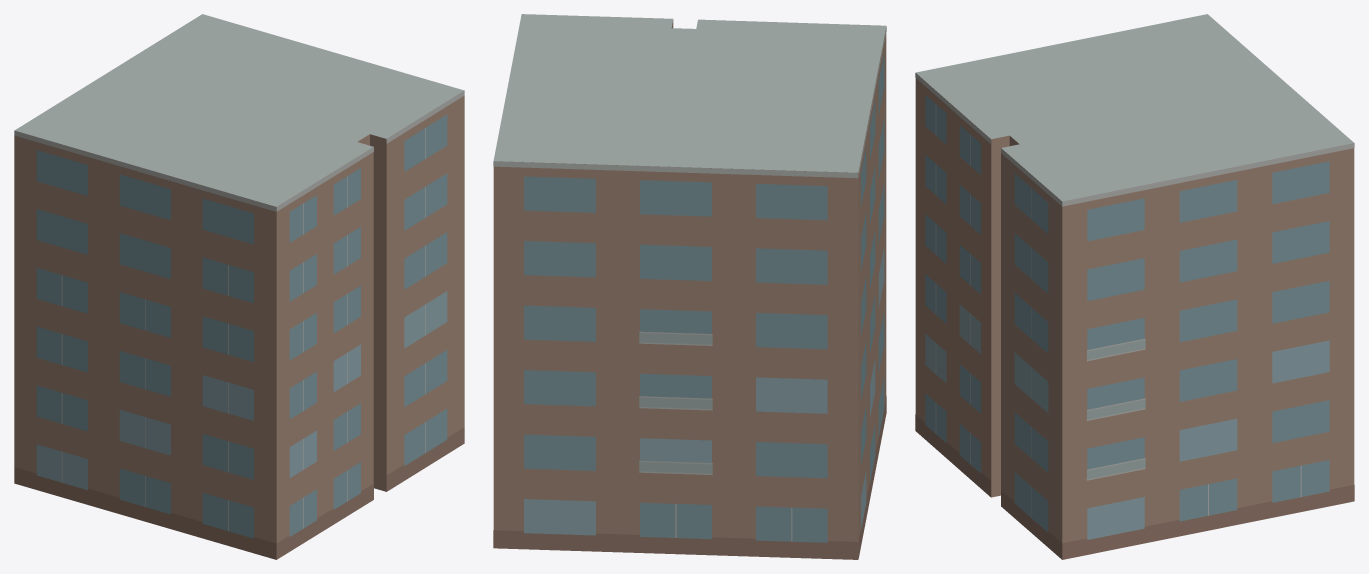
Rendered from survey-upis-32707226.glb.
3 views of the same model, side by side, from view 1: azimuth 30°, elevation 25°; view 2: azimuth 150°, elevation 25°; view 3: azimuth 270°, elevation 25° (orthographic). The views are drawn at different scales.
Visible parts, largest first — view 1: survey-upis-32707226.tmp; view 2: survey-upis-32707226.tmp; view 3: survey-upis-32707226.tmp.
Boxes of the visible parts, x1,y1,x2,y2 form: survey-upis-32707226.tmp: (14, 14, 464, 559); survey-upis-32707226.tmp: (493, 14, 886, 559); survey-upis-32707226.tmp: (915, 14, 1354, 559).
Bounding box in the file's own units: 19.43 × 17.3 × 19.22.
